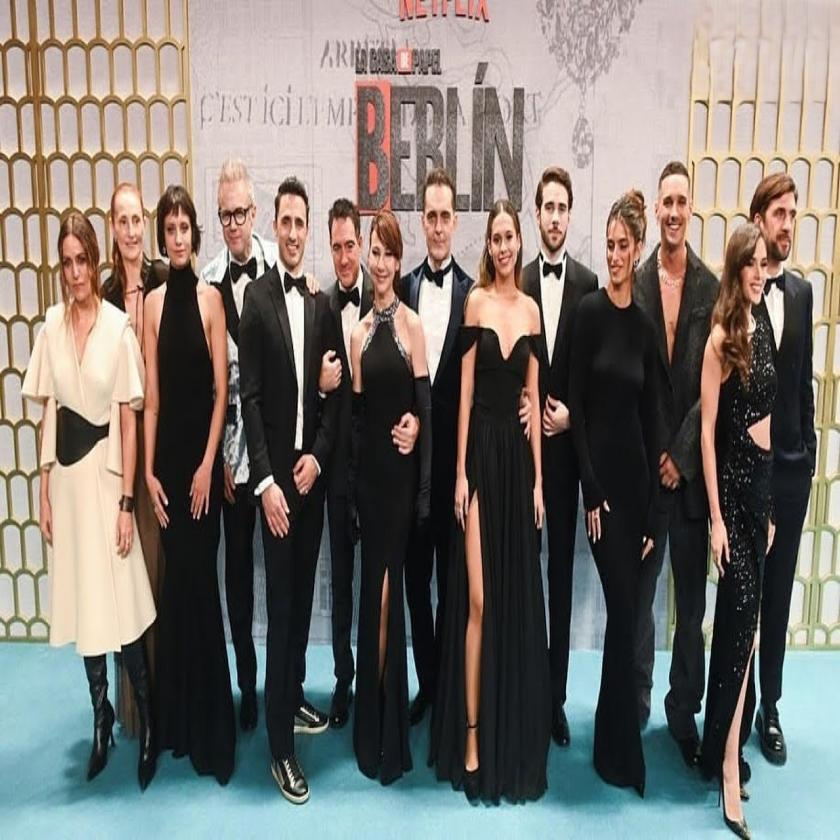Sin_casco: (56, 208, 102, 314), (274, 169, 314, 285), (755, 162, 797, 270), (603, 193, 645, 298), (218, 160, 262, 259), (157, 186, 203, 280), (726, 224, 768, 323), (366, 209, 405, 310), (657, 160, 696, 260), (536, 163, 574, 264), (484, 197, 526, 288), (422, 174, 460, 268), (111, 182, 149, 273), (325, 203, 363, 291)
